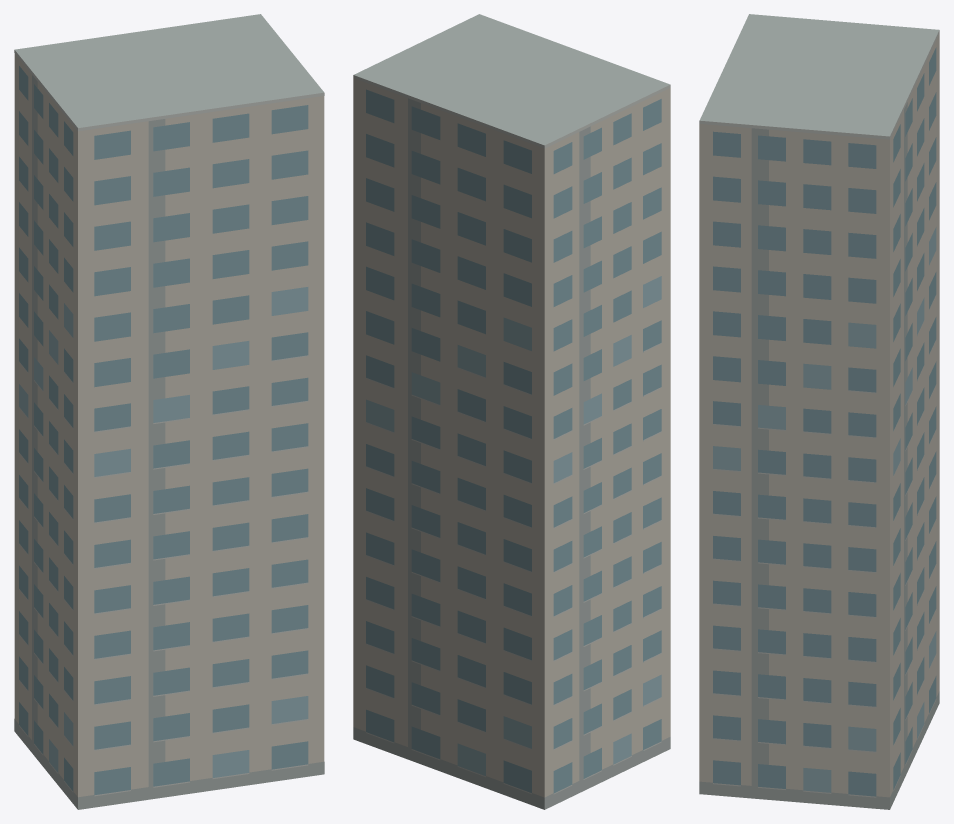
The model's file is residential-cd5ca19d-2d5b-4d2b-a5cf-af5746890522.glb.
3 renders of one model, left to right at view 1: azimuth 30°, elevation 25°; view 2: azimuth 150°, elevation 25°; view 3: azimuth 270°, elevation 25°, orthographic. The views are drawn at different scales.
Visible parts, largest first — view 1: residential-cd5ca19d-2d5b-4d2b-a5cf-af5746890522.tmp; view 2: residential-cd5ca19d-2d5b-4d2b-a5cf-af5746890522.tmp; view 3: residential-cd5ca19d-2d5b-4d2b-a5cf-af5746890522.tmp.
Boxes of the visible parts, x1,y1,x2,y2 form: residential-cd5ca19d-2d5b-4d2b-a5cf-af5746890522.tmp: (14,14,324,809); residential-cd5ca19d-2d5b-4d2b-a5cf-af5746890522.tmp: (353,14,670,809); residential-cd5ca19d-2d5b-4d2b-a5cf-af5746890522.tmp: (699,14,939,809).
Size of the model in its own units: 19.9 by 51 by 16.49.
